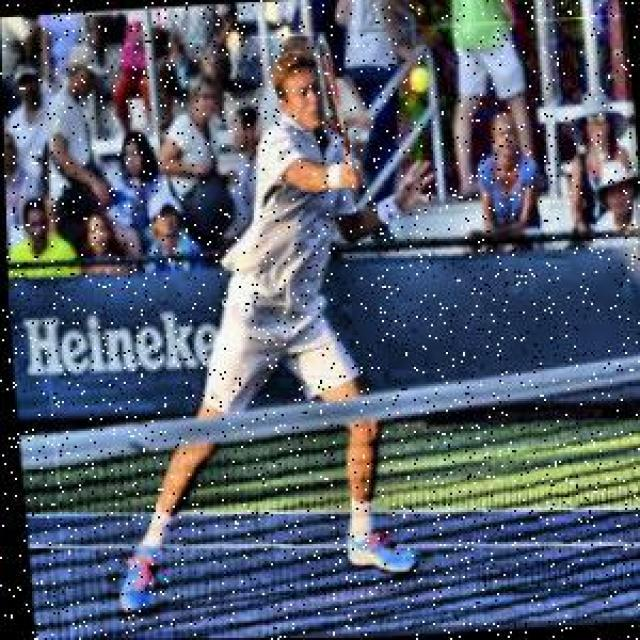tennis-ball: (407, 69, 429, 93)
